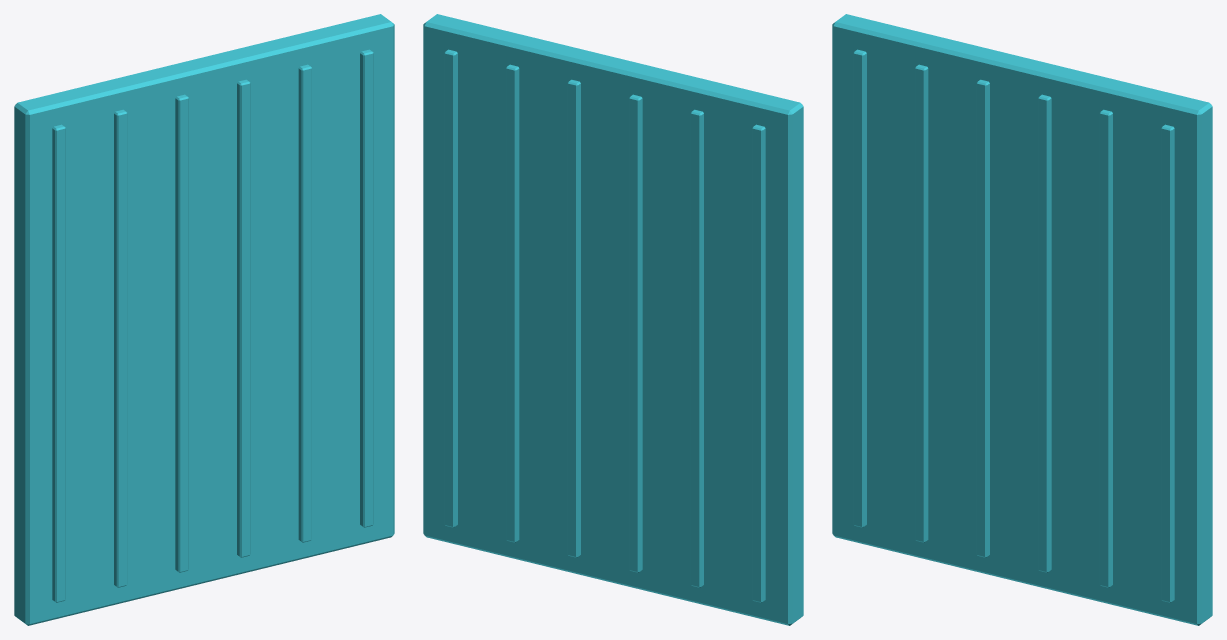
The model's file is radiator_panel_b.glb.
3 renders of one model, left to right at view 1: azimuth 30°, elevation 25°; view 2: azimuth 150°, elevation 25°; view 3: azimuth 330°, elevation 25°, orthographic.
Parts seen in each view (by area): view 1: radiator_panel_b-convcol; view 2: radiator_panel_b-convcol; view 3: radiator_panel_b-convcol.
Boxes of the visible parts, x1=… form: radiator_panel_b-convcol: x1=14, y1=14, x2=394, y2=625; radiator_panel_b-convcol: x1=423, y1=14, x2=803, y2=625; radiator_panel_b-convcol: x1=832, y1=14, x2=1212, y2=625.
Bounding box in the file's own units: 1.2 × 1.6 × 0.12.
